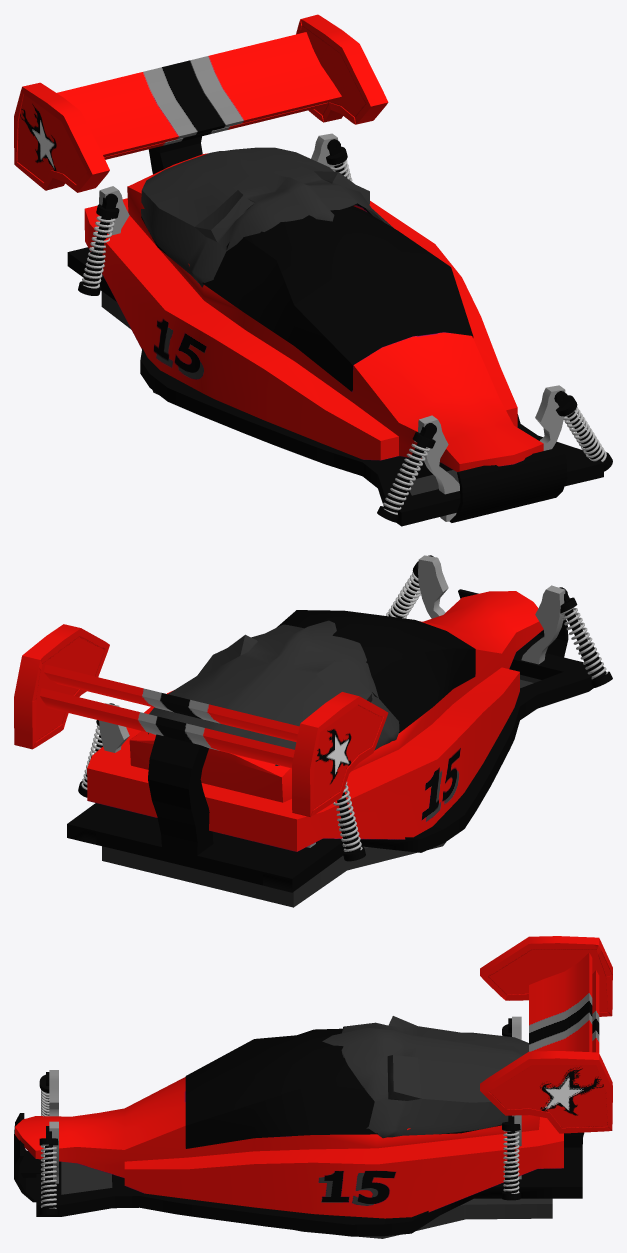
File: redcar.dae
3 renders of one model, top to bottom at view 1: azimuth 30°, elevation 25°; view 2: azimuth 150°, elevation 25°; view 3: azimuth 270°, elevation 25°, orthographic. The views are drawn at different scales.
Parts seen in each view (by area): view 1: Superficie_1, Aleron, Superficie_2, Carroceria, Aleron_izquierdo1, Defensa, Aleron_izquierdo, Aleron_derecho, RS_1_6, RS_2_6, Resorte_1, Resorte_3 (+2 smaller); view 2: Superficie_1, Carroceria, Superficie_2, Aleron_izquierdo1, Aleron_derecho, Tapa, Aleron, RS_1_6, RS_2_6, Aleron_izquierdo, Resorte_1, Resorte_3 (+3 smaller); view 3: Superficie_1, Superficie_2, Carroceria, Aleron_izquierdo, Aleron_derecho, Aleron_izquierdo1, Aleron, Tapa, Defensa, Resorte_4, Resorte_2, RS_1_6.
Part boxes in pixels (x1,y1,x2,y2): Superficie_1: (84,153,543,471); Aleron: (57,32,341,156); Superficie_2: (141,147,393,287); Carroceria: (67,102,603,526); Aleron_izquierdo1: (14,82,109,192); Defensa: (449,447,567,522); Aleron_izquierdo: (296,19,388,124); Aleron_derecho: (297,14,384,123); RS_1_6: (418,415,459,521); RS_2_6: (535,385,565,450); Resorte_1: (383,440,429,514); Resorte_3: (82,216,115,288); Superficie_1: (87,591,543,851); Carroceria: (40,648,593,892); Superficie_2: (148,620,399,765); Aleron_izquierdo1: (292,692,388,816); Aleron_derecho: (14,624,109,749); Tapa: (102,674,541,907); Aleron: (44,664,299,741); RS_1_6: (521,585,565,664); RS_2_6: (418,555,448,618); Aleron_izquierdo: (14,624,106,748); Resorte_1: (561,607,607,679); Resorte_3: (333,781,362,851); Superficie_1: (15,1028,563,1218); Superficie_2: (322,1016,528,1138); Carroceria: (36,970,599,1236); Aleron_izquierdo: (480,1051,612,1133); Aleron_derecho: (480,1051,612,1133); Aleron_izquierdo1: (480,936,612,1016); Aleron: (529,953,592,1052); Tapa: (61,1161,552,1238); Defensa: (14,1113,40,1202); Resorte_4: (503,1130,519,1193); Resorte_2: (41,1144,56,1208); RS_1_6: (49,1070,58,1116).
Size of the model in its own units: 0.5881 by 1.21 by 0.4878.
Materials: 10 (8 with a texture image).
